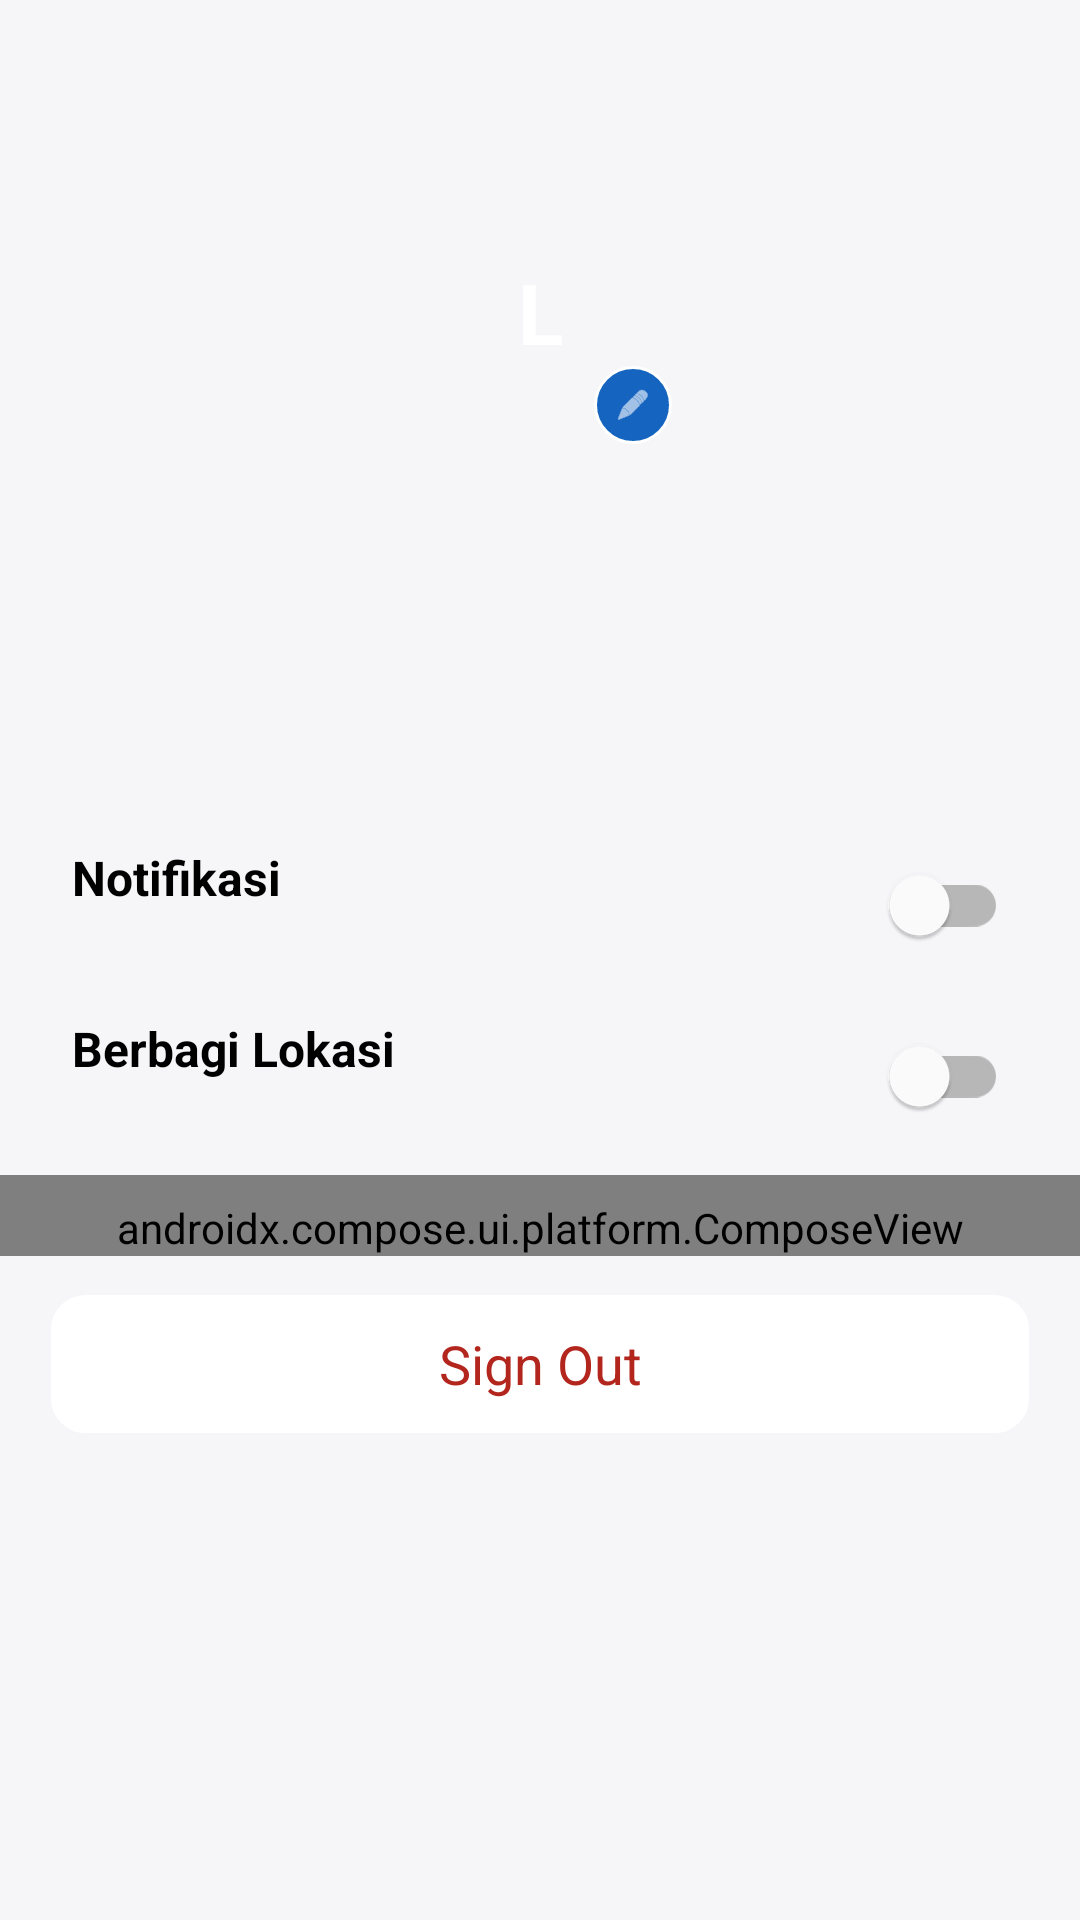

Icons on this 1080*1920 Android screen, each with the point to tap as point (x, y):
Edit profile: point (633, 405)
